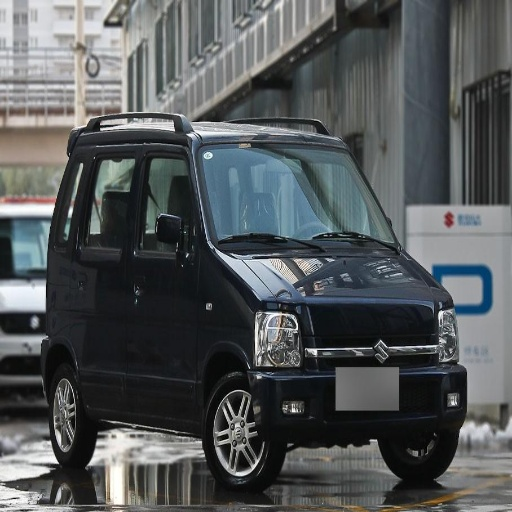front_bumper: (250, 304, 466, 445)
front_right_door: (120, 145, 195, 413)
front_right_light: (256, 307, 301, 368)
